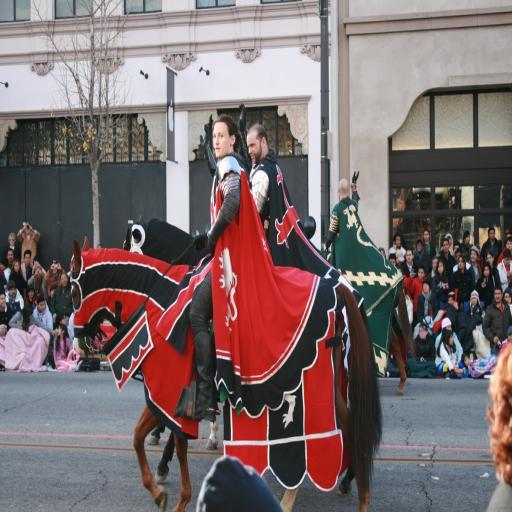Horse: (69, 236, 382, 512), (123, 213, 387, 500), (387, 288, 420, 396)
